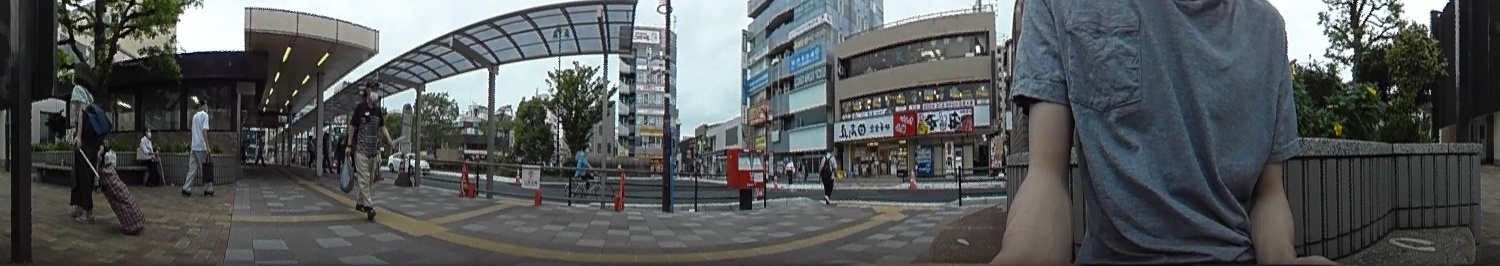difficult_person: (820, 147, 837, 204), (333, 133, 344, 173), (306, 131, 317, 165), (256, 133, 266, 165)
person: (64, 63, 102, 219), (344, 78, 385, 216), (184, 98, 216, 194), (135, 127, 160, 184), (574, 144, 591, 188)
